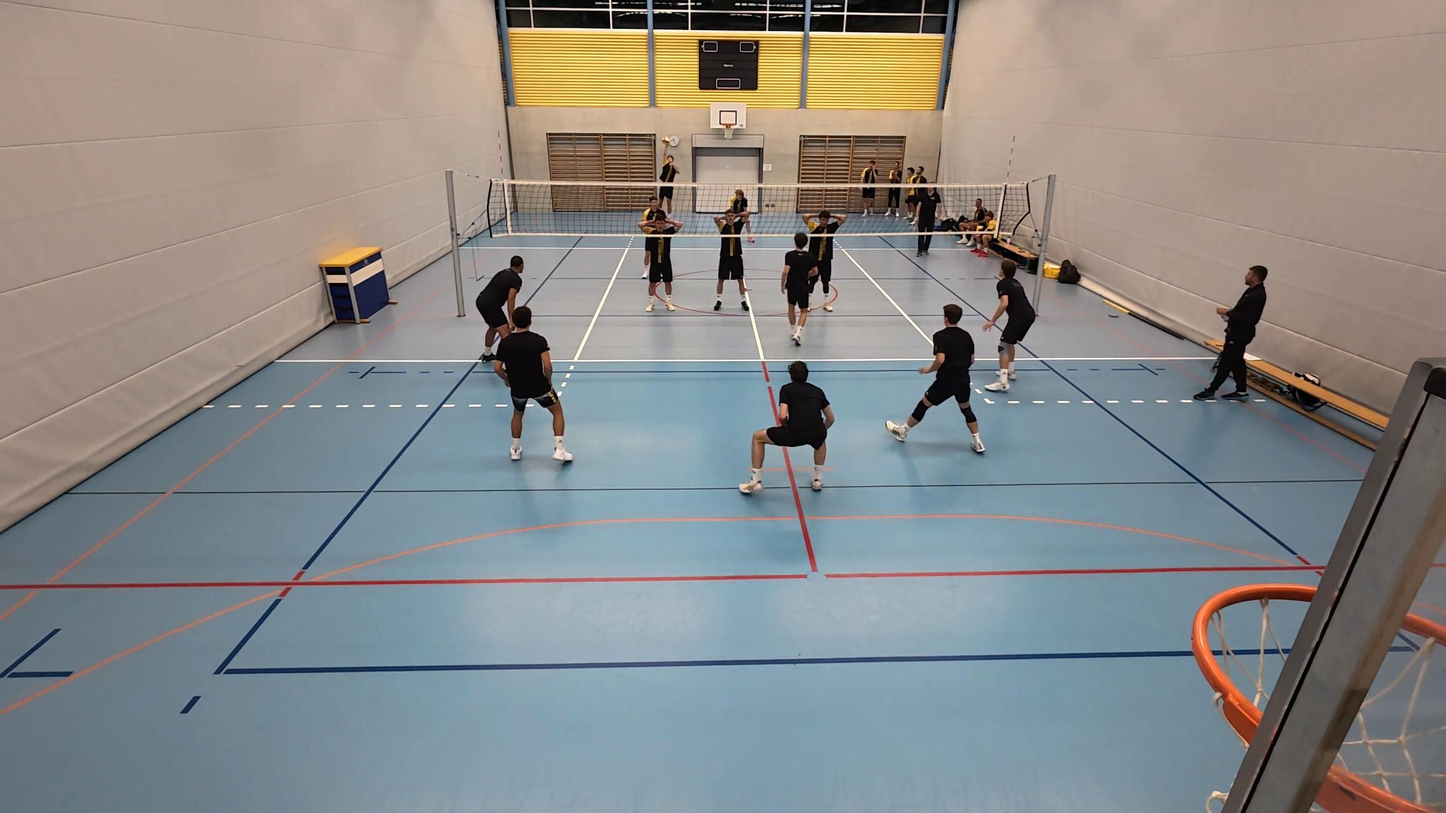battuta: (655, 135, 683, 221)
